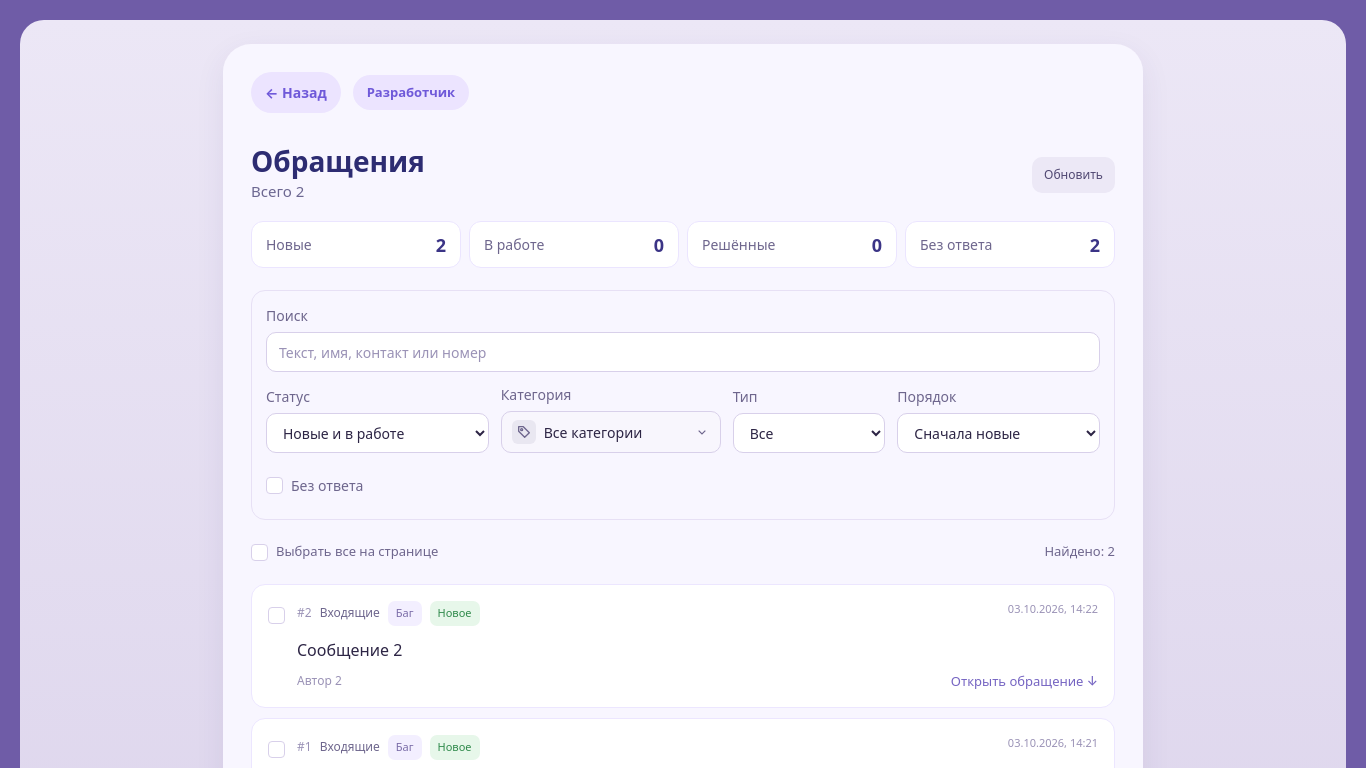
Test: keeps only failed bulk updates selected and retries them without sending replies
Click the checkbox named "Выбрать показанные обращения".
click(260, 552)  # box [251,544,268,561]
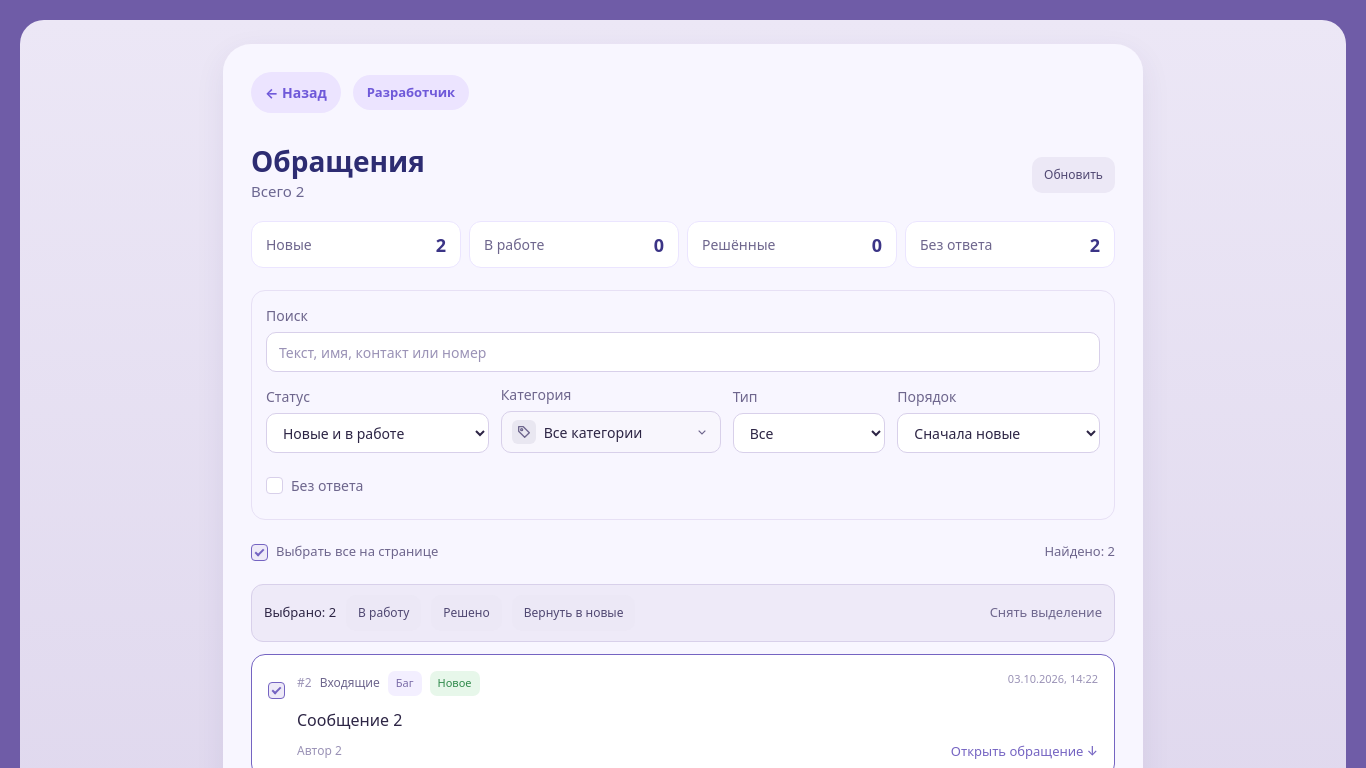
Click the button "Решено".
click(467, 613)  # box [431,595,502,631]
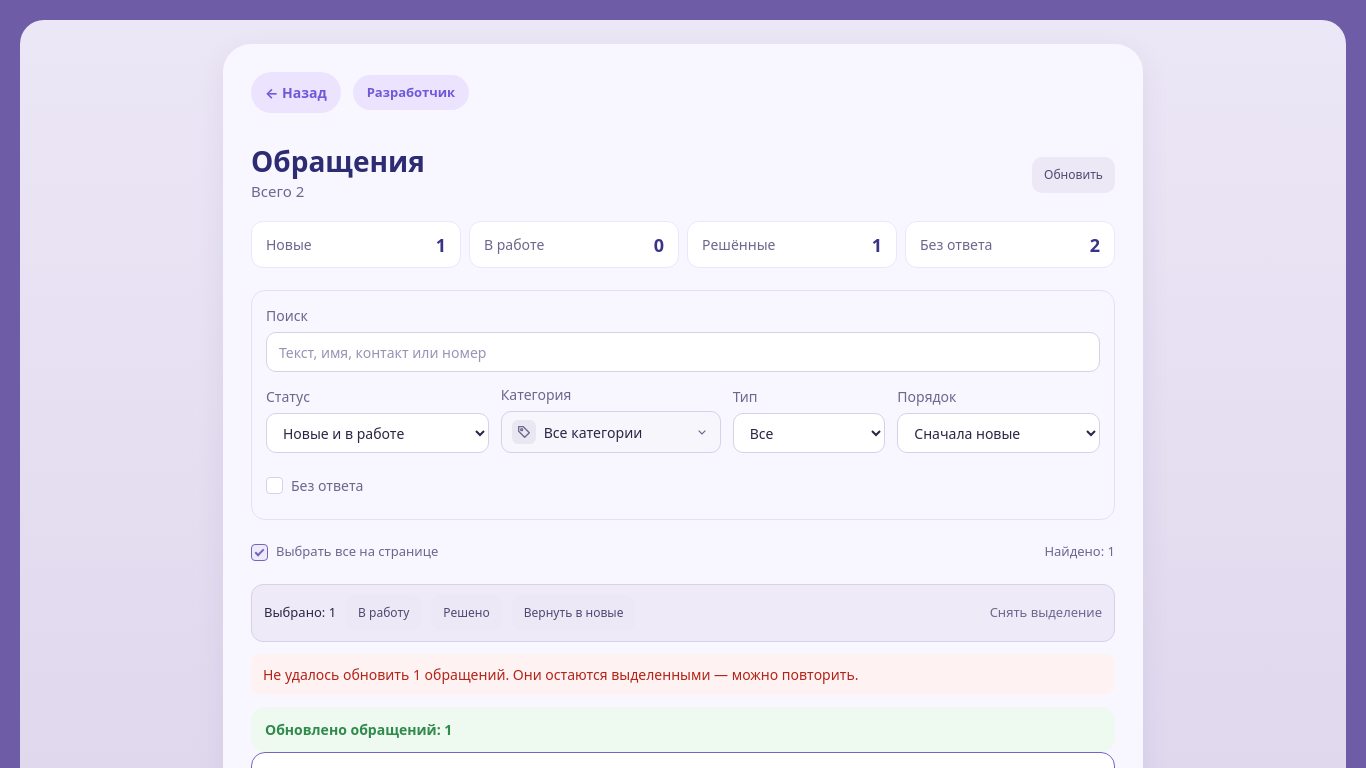
Expected: the message "Не удалось обновить 1 обращений. Они остаются выделенными — можно повторить." is shown, [251,654,1115,695]
Click the button "Решено".
click(467, 613)  # box [431,595,502,631]
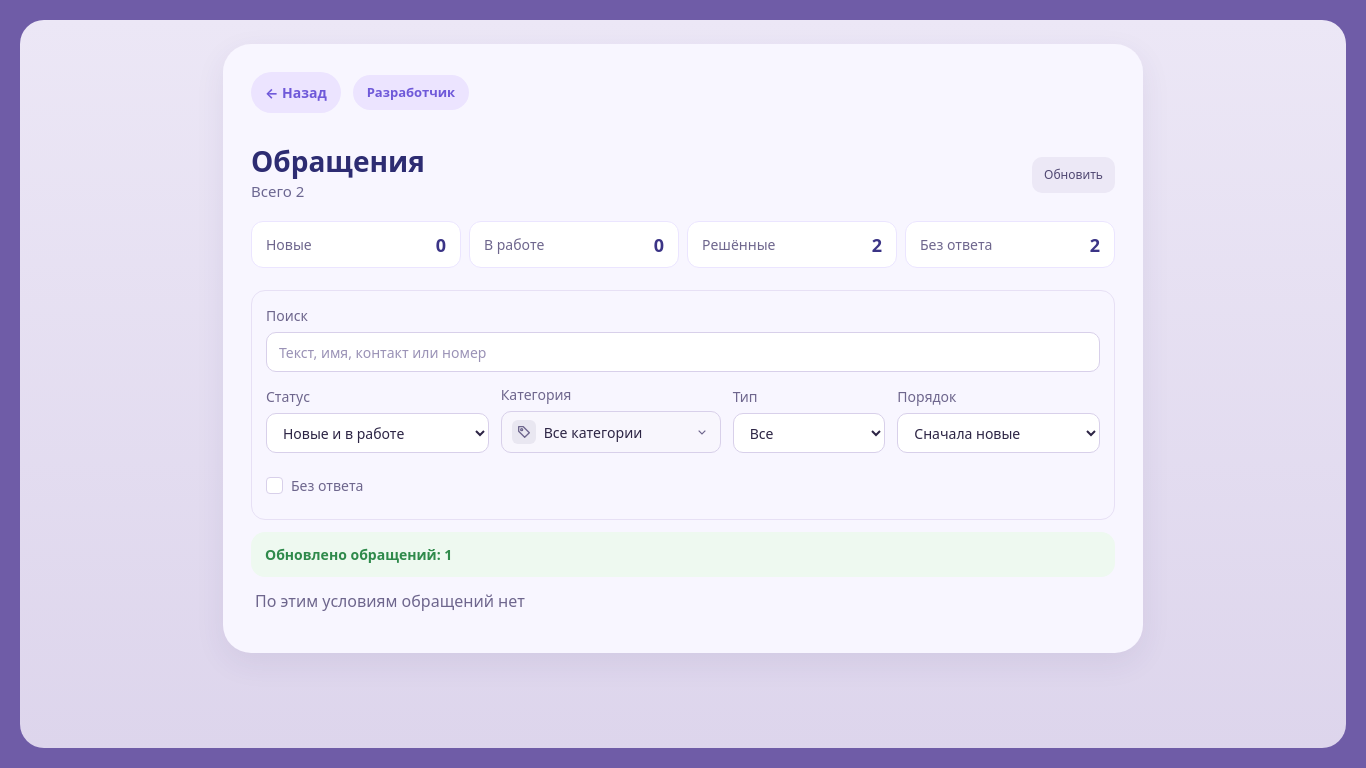
Expected: the text "По этим условиям обращений нет" is shown, [255,590,525,612]
